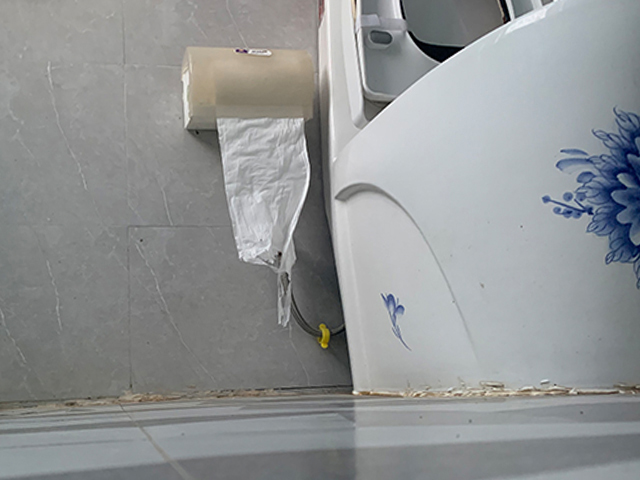closestool: (317, 1, 640, 396)
